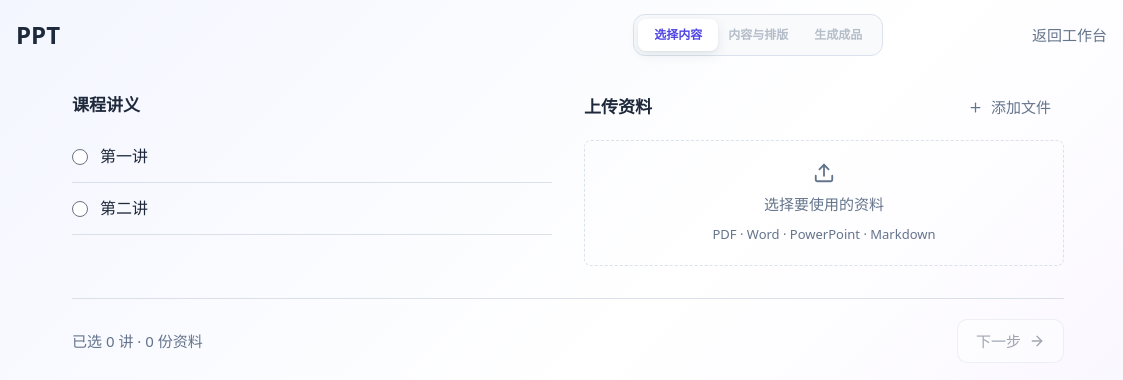
it: selects one lecture and starts only after Next
This screenshot has width=1123, height=380.
Step 1. Click the radio button labelled "第一讲" → (80, 157), box [72,149,88,165]
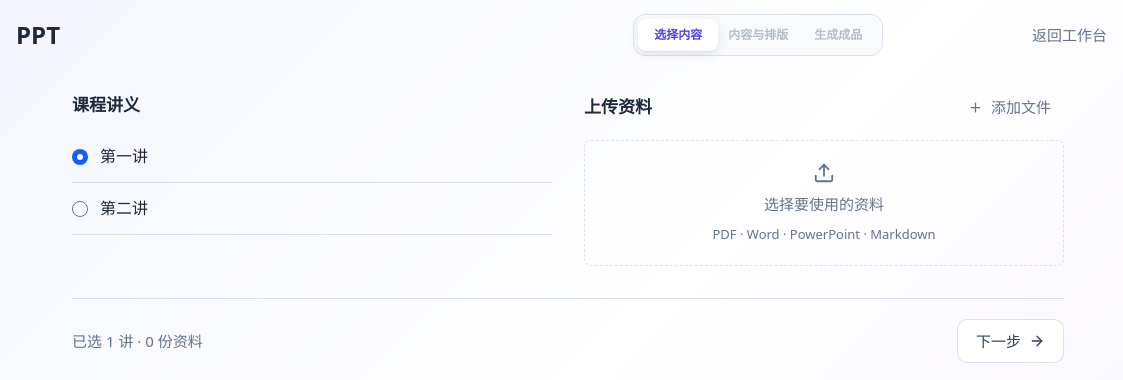
Step 2. Click the button "下一步" → (1010, 341), box [957,319,1064,363]
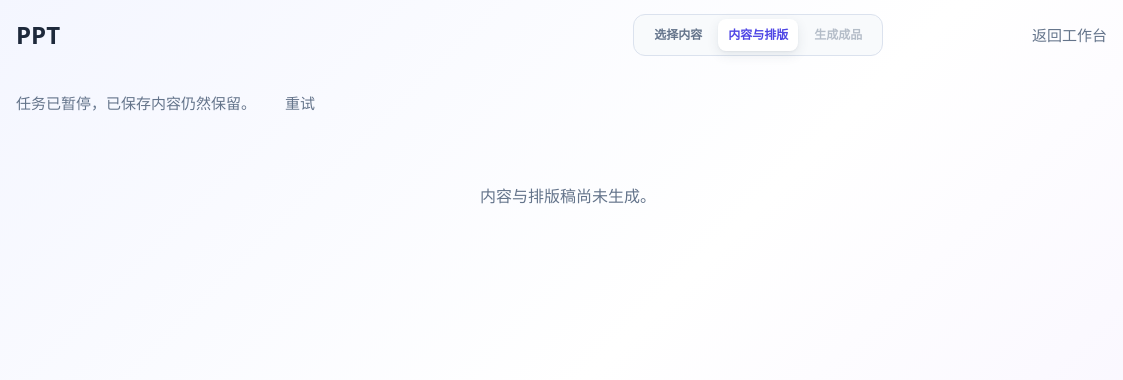
Expected: the text "任务已暂停" is shown, [16,93,256,113]
